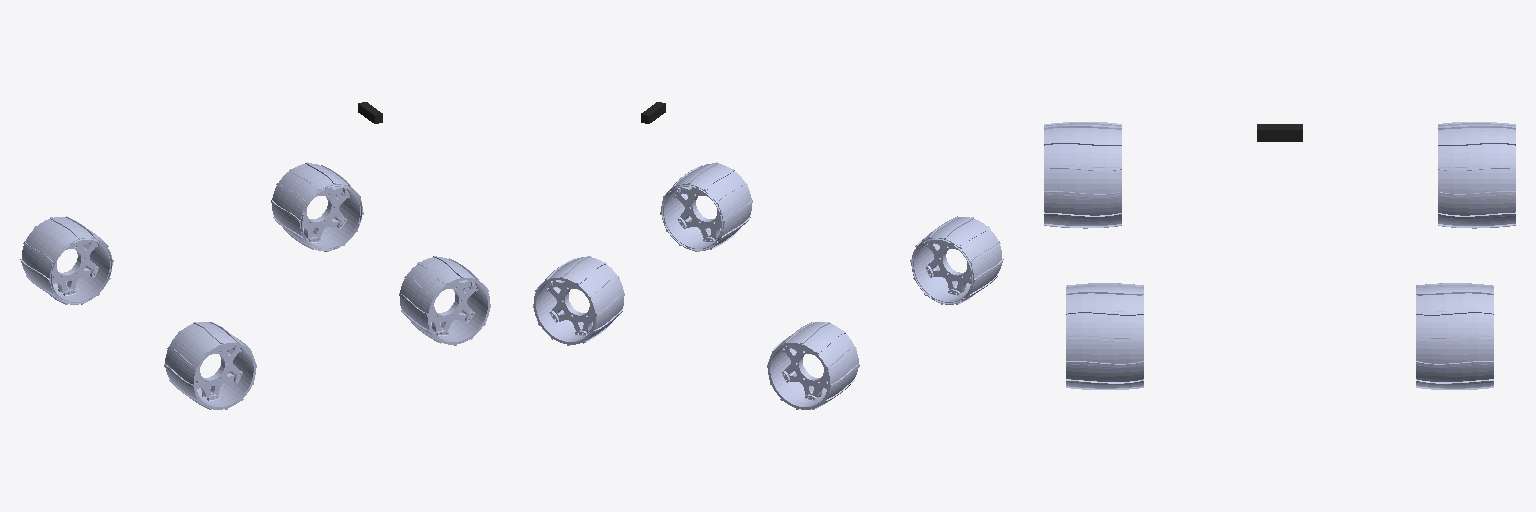
URDF robot description (rover_assembly_urdf):
<!-- <?xml version="1.0" encoding="utf-8"?> -->
<!-- This URDF was automatically created by SolidWorks to URDF Exporter! Originally created by Stephen Brawner (brawner@gmail.com) 
     Commit Version: 1.6.0-4-g7f85cfe  Build Version: 1.6.7995.38578
     For more information, please see http://wiki.ros.org/sw_urdf_exporter -->
<robot
  name="rover_assembly_urdf">
  <plugin filename="gz-sim-sensors-system" name="sensors_system"></plugin>
  <link
    name="base_link">
    <inertial>
      <origin
        xyz="-0.0995493291128925 -0.000379326476322777 -0.127506931768041"
        rpy="0 0 0" />
      <mass
        value="3.82645965067703" />
      <inertia
        ixx="0.0182359318821782"
        ixy="-1.66336102014158E-07"
        ixz="-9.47682530438081E-05"
        iyy="0.0300845157364661"
        iyz="6.11441670624201E-08"
        izz="0.0371542337688629" />
    </inertial>
    <visual>
      <origin
        xyz="0 0 0"
        rpy="0 0 0" />
      <geometry>
        <mesh
          filename="package://rover_assembly_urdf/meshes/base_link.STL" />
      </geometry>
      <material
        name="">
        <color
          rgba="0.792156862745098 0.819607843137255 0.933333333333333 1" />
      </material>
    </visual>
    <collision>
      <origin
        xyz="0 0 0"
        rpy="0 0 0" />
      <geometry>
        <mesh
          filename="package://rover_assembly_urdf/meshes/base_link.STL" />
      </geometry>
    </collision>
  </link>
  <link
    name="front_left_wheel">
    <inertial>
      <origin
        xyz="0.000391336404285514 -0.0365766414011693 0.000187700783118083"
        rpy="0 0 0" />
      <mass
        value="0.651042416095026" />
      <inertia
        ixx="0.00298936177294947"
        ixy="-8.42512305234435E-10"
        ixz="-3.96454233288125E-09"
        iyy="0.00459449507509991"
        iyz="8.32696088605818E-10"
        izz="0.0029893585151179" />
    </inertial>
    <visual>
      <origin
        xyz="0 0 0"
        rpy="0 0 0" />
      <geometry>
        <mesh
          filename="package://rover_assembly_urdf/meshes/front_left_wheel.STL" />
      </geometry>
      <material
        name="">
        <color
          rgba="0.792156862745098 0.819607843137255 0.933333333333333 1" />
      </material>
    </visual>
    <collision>
      <origin
        xyz="0 0 0"
        rpy="0 0 0" />
      <geometry>
        <mesh
          filename="package://rover_assembly_urdf/meshes/front_left_wheel.STL" />
      </geometry>
    </collision>
  </link>
  <joint
    name="front_left_joint"
    type="continuous">
    <origin
      xyz="0.33182 0.3735 -0.31825"
      rpy="0 0 0" />
    <parent
      link="base_link" />
    <child
      link="front_left_wheel" />
    <axis
      xyz="0 1 0" />
  </joint>
  <link
    name="front_right_wheel">
    <inertial>
      <origin
        xyz="0.000391293455739572 0.0365401507885555 0.000187689861680551"
        rpy="0 0 0" />
      <mass
        value="0.65081338939207" />
      <inertia
        ixx="0.00298720054852065"
        ixy="1.30202836540033E-09"
        ixz="-3.88990953272823E-09"
        iyy="0.00459334541330057"
        iyz="-1.4624186480432E-09"
        izz="0.00298719733260163" />
    </inertial>
    <visual>
      <origin
        xyz="0 0 0"
        rpy="0 0 0" />
      <geometry>
        <mesh
          filename="package://rover_assembly_urdf/meshes/front_right_wheel.STL" />
      </geometry>
      <material
        name="">
        <color
          rgba="0.792156862745098 0.819607843137255 0.933333333333333 1" />
      </material>
    </visual>
    <collision>
      <origin
        xyz="0 0 0"
        rpy="0 0 0" />
      <geometry>
        <mesh
          filename="package://rover_assembly_urdf/meshes/front_right_wheel.STL" />
      </geometry>
    </collision>
  </link>
  <joint
    name="front_right_joint"
    type="continuous">
    <origin
      xyz="0.33182 -0.3735 -0.31825"
      rpy="0 0 0" />
    <parent
      link="base_link" />
    <child
      link="front_right_wheel" />
    <axis
      xyz="0 -1 0" />
  </joint>
  <link
    name="rear_left_wheel">
    <inertial>
      <origin
        xyz="4.25361968262594E-05 -0.036576641772875 -0.000431932823001135"
        rpy="0 0 0" />
      <mass
        value="0.651042417400194" />
      <inertia
        ixx="0.00298936144419571"
        ixy="1.10925964504801E-09"
        ixz="4.06898479805536E-09"
        iyy="0.00459449507973379"
        iyz="5.52839651471255E-10"
        izz="0.00298935890260606" />
    </inertial>
    <visual>
      <origin
        xyz="0 0 0"
        rpy="0 0 0" />
      <geometry>
        <mesh
          filename="package://rover_assembly_urdf/meshes/rear_left_wheel.STL" />
      </geometry>
      <material
        name="">
        <color
          rgba="0.792156862745098 0.819607843137255 0.933333333333333 1" />
      </material>
    </visual>
    <collision>
      <origin
        xyz="0 0 0"
        rpy="0 0 0" />
      <geometry>
        <mesh
          filename="package://rover_assembly_urdf/meshes/rear_left_wheel.STL" />
      </geometry>
    </collision>
  </link>
  <joint
    name="rear_left_joint"
    type="continuous">
    <origin
      xyz="-0.40525 0.4155 -0.31785"
      rpy="0 0 0" />
    <parent
      link="base_link" />
    <child
      link="rear_left_wheel" />
    <axis
      xyz="0 1 0" />
  </joint>
  <link
    name="rear_right_wheel">
    <inertial>
      <origin
        xyz="4.25409504680174E-05 0.0365401567368097 -0.000431889728876034"
        rpy="0 0 0" />
      <mass
        value="0.650813394078346" />
      <inertia
        ixx="0.00298720017365453"
        ixy="-1.58669881900365E-09"
        ixz="3.98243205522859E-09"
        iyy="0.00459334541101721"
        iyz="-1.20465141762546E-10"
        izz="0.00298719767791102" />
    </inertial>
    <visual>
      <origin
        xyz="0 0 0"
        rpy="0 0 0" />
      <geometry>
        <mesh
          filename="package://rover_assembly_urdf/meshes/rear_right_wheel.STL" />
      </geometry>
      <material
        name="">
        <color
          rgba="0.792156862745098 0.819607843137255 0.933333333333333 1" />
      </material>
    </visual>
    <collision>
      <origin
        xyz="0 0 0"
        rpy="0 0 0" />
      <geometry>
        <mesh
          filename="package://rover_assembly_urdf/meshes/rear_right_wheel.STL" />
      </geometry>
    </collision>
  </link>
  <joint
    name="rear_right_joint"
    type="continuous">
    <origin
      xyz="-0.40525 -0.4155 -0.31785"
      rpy="0 0 0" />
    <parent
      link="base_link" />
    <child
      link="rear_right_wheel" />
    <axis
      xyz="0 -1 0" />
  </joint>
  <!-- Camera Link for Gazebo Simulation -->
  <link name="camera_link">
    <visual>
      <origin xyz="0 0 0" rpy="0 0 0"/>
      <geometry>
        <box size="0.025 0.09 0.025"/>
      </geometry>
      <material name="camera_material">
        <color rgba="0.2 0.2 0.2 1"/>
      </material>
    </visual>
  </link>
  <!-- Camera Joint to attach to base_link -->
  <joint name="camera_joint" type="fixed">
    <parent link="base_link"/>
    <child link="camera_link"/>
    <origin xyz="0.3 0 0.1" rpy="0 0 0"/>
  </joint>
  <!-- Gazebo Differential Drive Plugin (replaces motor driver) -->
  <gazebo>
    <plugin name="diff_drive" filename="gz-sim-diff-drive-system">
      <left_joint>front_left_joint</left_joint>
      <right_joint>front_right_joint</right_joint>
      <wheel_separation>0.831</wheel_separation>
      <wheel_diameter>0.13</wheel_diameter>
      <max_wheel_torque>20</max_wheel_torque>
      <max_wheel_acceleration>1.0</max_wheel_acceleration>
      <publish_odom>true</publish_odom>
      <publish_odom_tf>true</publish_odom_tf>
      <publish_wheel_tf>false</publish_wheel_tf>
      <odometry_frame>odom</odometry_frame>
      <robot_base_frame>base_link</robot_base_frame>
    </plugin>
  </gazebo>
  <!-- Gazebo IMU Sensor (replaces MPU6500) -->
  <gazebo reference="base_link">
    <sensor name="imu_sensor" type="imu">
      <always_on>true</always_on>
      <update_rate>100</update_rate>
      <plugin filename="gz-sim-ros-imu-system" name="imu_plugin">
        <ros>
          <remapping>~/out:=/imu/data_raw</remapping>
        </ros>
        <initial_orientation_as_reference>false</initial_orientation_as_reference>
      </plugin>
    </sensor>
  </gazebo>
  <!-- Gazebo Depth Camera Plugin (replaces RealSense D435) -->
  <gazebo reference="camera_link">
    <sensor type="depth" name="realsense_d435">
      <update_rate>30.0</update_rate>
      <camera>
        <horizontal_fov>1.5184</horizontal_fov>
        <image>
          <width>640</width>
          <height>480</height>
          <format>R8G8B8</format>
        </image>
        <clip>
          <near>0.1</near>
          <far>10.0</far>
        </clip>
      </camera>
      <plugin name="camera_plugin" filename="gz-sim-ros-camera-system">
        <ros>
          <remapping>~/image_raw:=/camera/color/image_raw</remapping>
          <remapping>~/depth/image_raw:=/camera/aligned_depth_to_color/image_raw</remapping>
          <remapping>~/camera_info:=/camera/color/camera_info</remapping>
        </ros>
        <camera_name>camera</camera_name>
        <frame_name>camera_link</frame_name>
      </plugin>
    </sensor>
  </gazebo>
</robot>

--- What the picture shows (computed from the rendered views, not written in the file) ---
The picture shows the robot from 3 angles, left to right: view 1: azimuth 30°, elevation 25°; view 2: azimuth 150°, elevation 25°; view 3: azimuth 270°, elevation 25°; orthographic projection.
Model rover_assembly_urdf with 6 links and 5 joints (4 continuous, 1 fixed), rooted at base_link, posed all joints at 0.
Visible links, largest first — view 1: front_left_wheel, front_right_wheel, rear_right_wheel, rear_left_wheel; view 2: front_right_wheel, front_left_wheel, rear_left_wheel, rear_right_wheel; view 3: front_left_wheel, front_right_wheel, rear_left_wheel, rear_right_wheel, camera_link.
Boxes of the visible links, bbox=[...] form: front_left_wheel: bbox=[271, 162, 363, 251]; front_right_wheel: bbox=[399, 256, 490, 345]; rear_right_wheel: bbox=[164, 322, 256, 409]; rear_left_wheel: bbox=[20, 216, 113, 304]; front_right_wheel: bbox=[660, 162, 752, 251]; front_left_wheel: bbox=[533, 256, 624, 345]; rear_left_wheel: bbox=[767, 322, 859, 409]; rear_right_wheel: bbox=[910, 216, 1003, 304]; front_left_wheel: bbox=[1416, 283, 1493, 389]; front_right_wheel: bbox=[1066, 283, 1143, 389]; rear_left_wheel: bbox=[1438, 122, 1515, 228]; rear_right_wheel: bbox=[1044, 122, 1121, 228]; camera_link: bbox=[1257, 124, 1302, 141].
Bounding box of the posed robot: 0.9441 × 0.9072 × 0.5344 m (x, y, z).
4 mesh visuals loaded from 5 distinct referenced files (4 binary STL); not drawn: 1 (reference not matched to a file when rendering).
